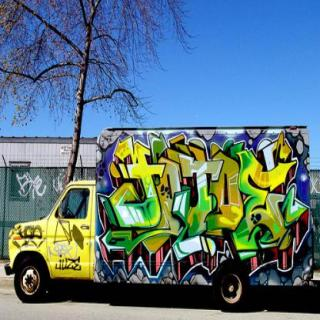Normal_vehicle: (7, 120, 317, 309)
